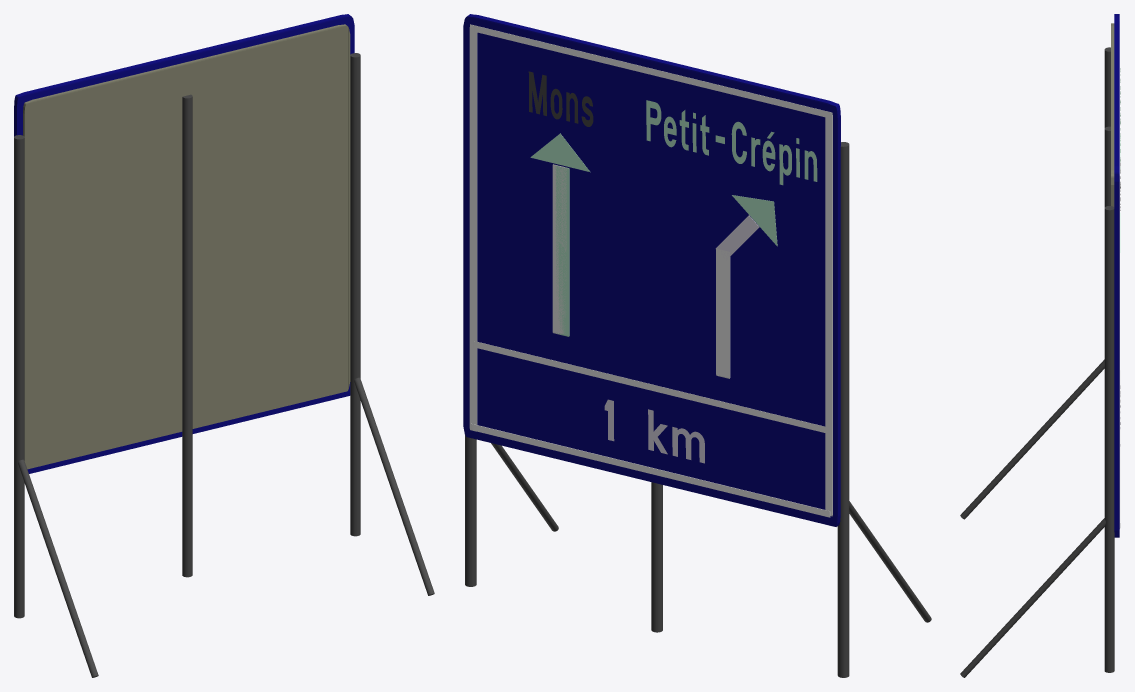
Rendered from roadsignbelgium3.obj.
The picture shows the model from 3 angles, left to right: view 1: azimuth 30°, elevation 25°; view 2: azimuth 150°, elevation 25°; view 3: azimuth 270°, elevation 25°; orthographic projection. The views are drawn at different scales.
Parts seen in each view (by area): view 1: Cube.005, Cube, Cylinder.001, Cylinder, Cylinder.002, Cylinder.004, Cylinder.005; view 2: Cube, Cylinder.002, Cube.003, Cube.004, Text.001, Cube.002, Cube.001, Cube.012, Cube.008, Cube.007, Cube.010, Cylinder (+8 smaller); view 3: Cylinder, Cube, Cylinder.004, Cylinder.005, Cube.005, Cylinder.001, Cylinder.002, Cube.003.
Part boxes in pixels (x1,y1,x2,y2): Cube.005: (23,24,350,469); Cube: (14,14,354,473); Cylinder.001: (182,94,192,577); Cylinder: (350,53,360,536); Cylinder.002: (14,135,24,618); Cylinder.004: (18,459,98,677); Cylinder.005: (354,377,434,595); Cube: (463,14,840,526); Cylinder.002: (837,142,849,677); Cube.003: (469,24,477,431); Cube.004: (825,111,832,516); Text.001: (646,100,817,185); Cube.002: (470,423,830,517); Cube.001: (472,25,831,118); Cube.012: (473,341,829,433); Cube.008: (555,165,569,336); Cube.007: (552,164,566,334); Cube.010: (716,248,730,378); Cylinder: (465,434,476,586); Cylinder: (1104,206,1114,672); Cube: (1114,14,1119,537); Cylinder.004: (960,359,1104,519); Cylinder.005: (960,518,1105,677); Cube.005: (1111,23,1114,206); Cylinder.001: (1104,126,1110,206); Cylinder.002: (1104,47,1110,127); Cube.003: (1119,175,1119,528).
Bounding box in the file's own units: 2.05 × 2.98 × 0.8551.
